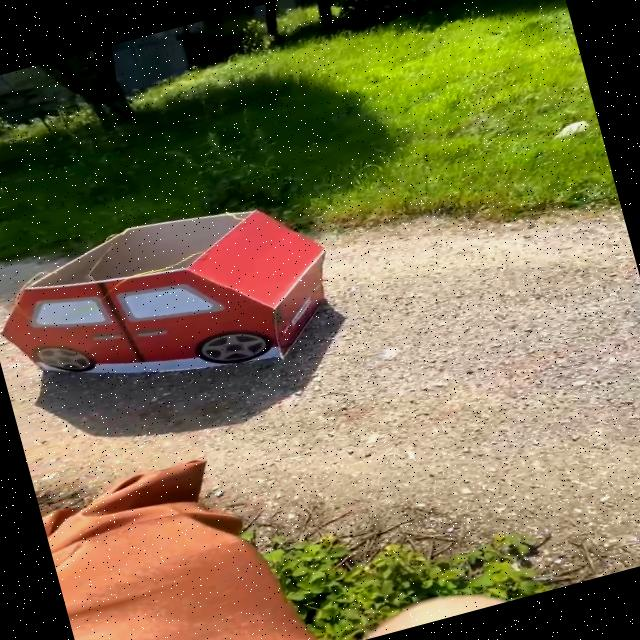red_car: (0, 162, 383, 444)
